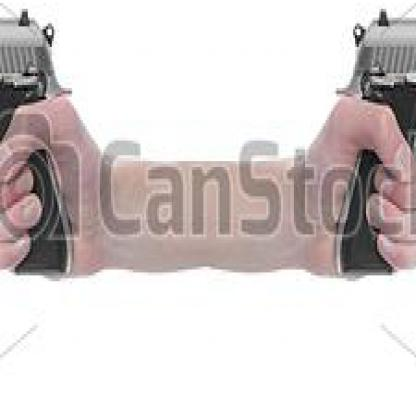gun: (340, 0, 414, 308), (0, 0, 71, 279)
